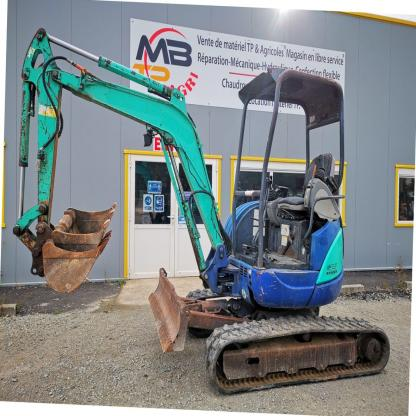excavator: (11, 20, 393, 408)
